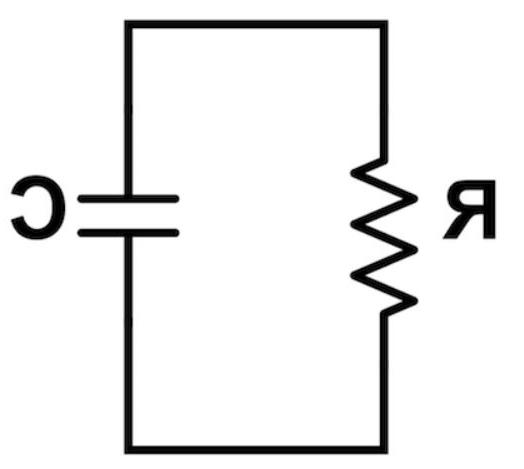Capacitor: (67, 162, 198, 271)
